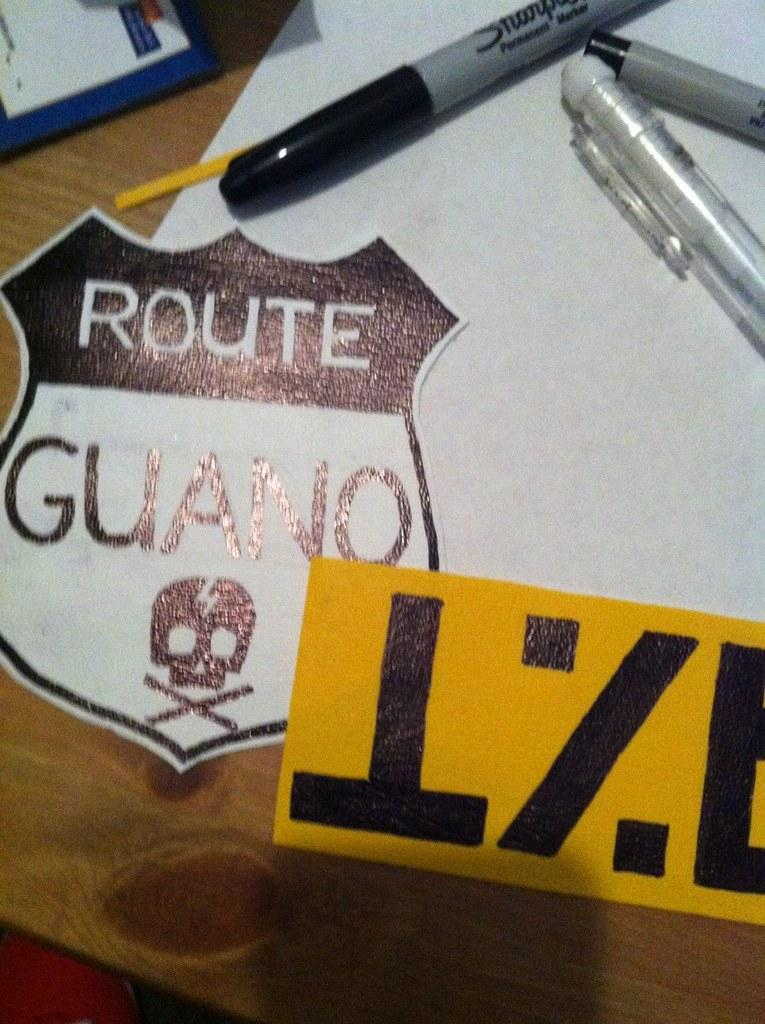pen: (221, 0, 652, 216), (552, 54, 764, 371), (578, 29, 764, 147)
